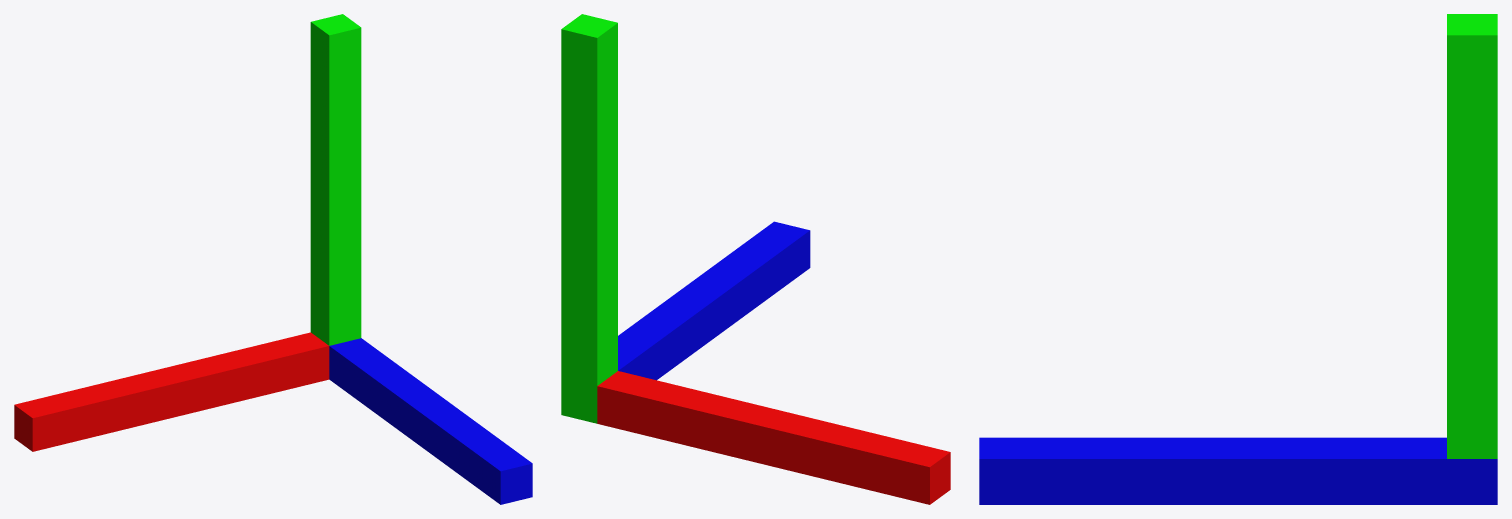
File: Axis.obj
3 renders of one model, left to right at view 1: azimuth 30°, elevation 25°; view 2: azimuth 150°, elevation 25°; view 3: azimuth 270°, elevation 25°, orthographic. The views are drawn at different scales.
Visible parts, largest first — view 1: 立方体; view 2: 立方体; view 3: 立方体.
Part boxes in pixels (<box>): 立方体: <box>14,14,532,504</box>; 立方体: <box>561,14,950,504</box>; 立方体: <box>979,14,1497,504</box>.
Size of the model in its own units: 1.05 by 1.05 by 1.05.
Materials: 1 (1 with a texture image).
